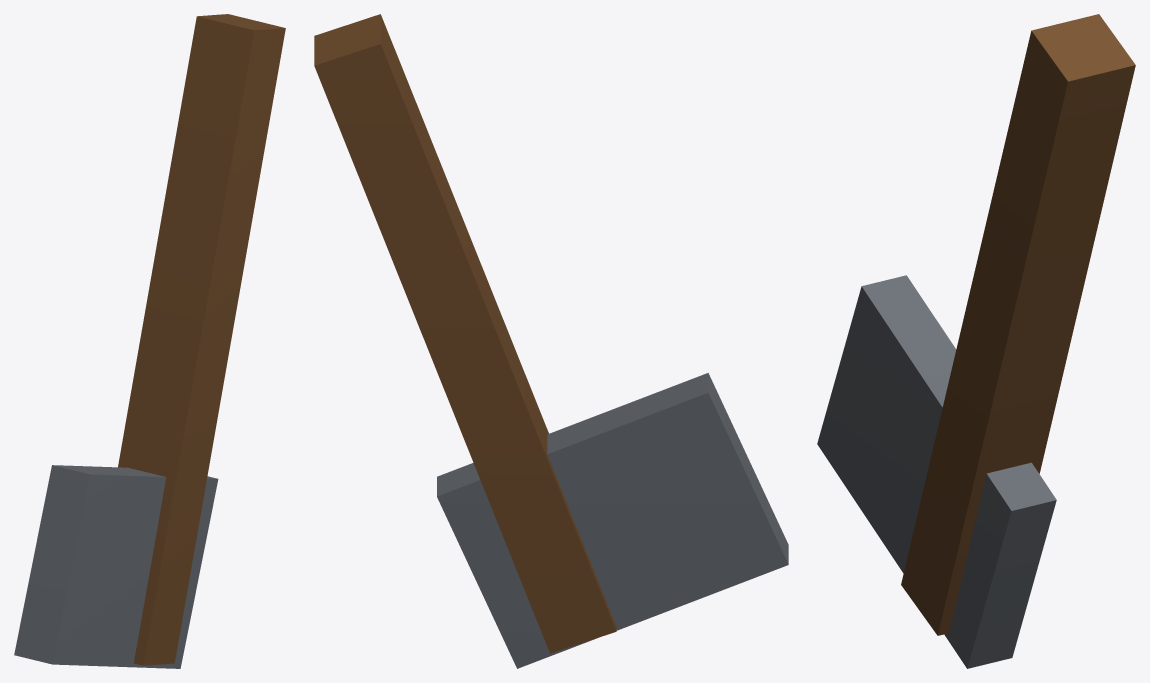
Rendered from woodcutter_axe.glb.
3 views of the same model, side by side, from view 1: azimuth 30°, elevation 25°; view 2: azimuth 150°, elevation 25°; view 3: azimuth 270°, elevation 25° (orthographic). The views are drawn at different scales.
Visible parts, largest first — view 1: woodcutter_axe; view 2: woodcutter_axe; view 3: woodcutter_axe.
Boxes of the visible parts, x1,y1,x2,y2 form: woodcutter_axe: (14,14,285,668); woodcutter_axe: (314,14,788,668); woodcutter_axe: (817,14,1135,668).
Size of the model in its own units: 0.0747 by 0.1179 by 0.0489.
